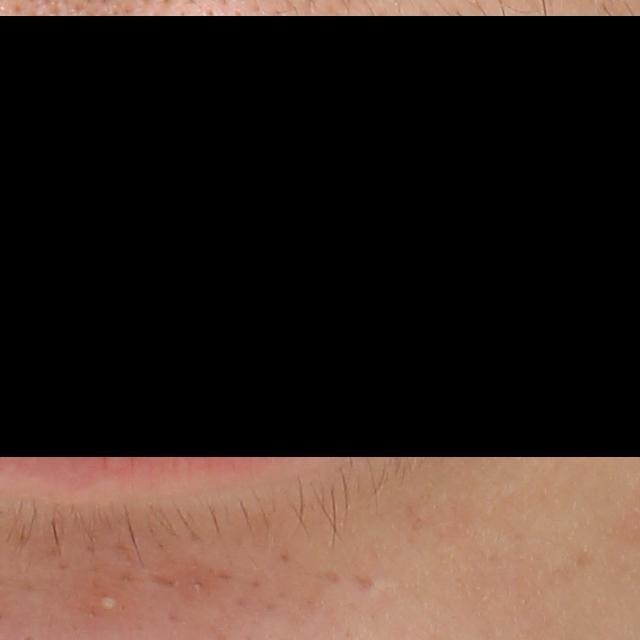atrophic_scar: (352, 573, 377, 590)
pustule: (96, 593, 121, 616)
